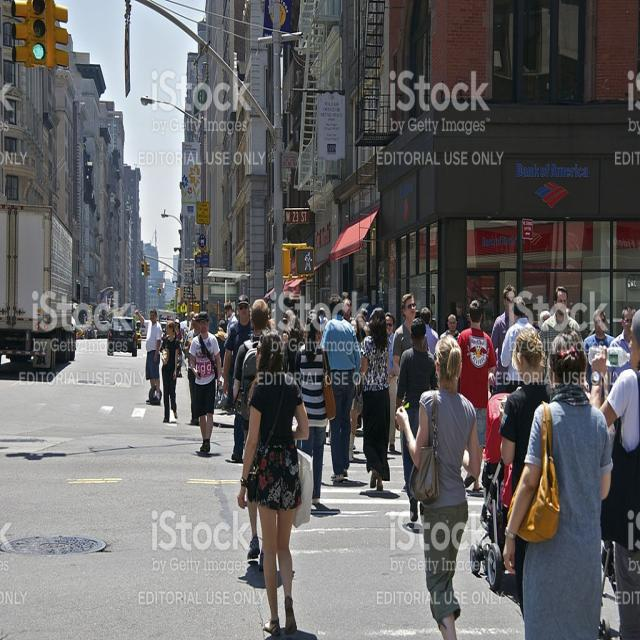body: (503, 329, 618, 640), (392, 328, 486, 639), (236, 329, 310, 636), (586, 306, 640, 639), (232, 297, 274, 575), (498, 326, 555, 506), (393, 316, 439, 527), (292, 310, 338, 512), (454, 297, 499, 493), (320, 292, 362, 488), (313, 477, 422, 536), (359, 307, 391, 493), (222, 294, 254, 464), (189, 309, 222, 457), (540, 285, 584, 386), (499, 294, 540, 394), (392, 292, 430, 380), (488, 284, 517, 396), (583, 308, 617, 402), (134, 308, 164, 407), (384, 310, 402, 454), (609, 307, 637, 394), (158, 320, 181, 423), (184, 312, 203, 428), (349, 317, 364, 462), (225, 562, 299, 589), (281, 314, 307, 376), (216, 302, 238, 358), (418, 306, 441, 358), (173, 318, 185, 378), (439, 312, 462, 343), (263, 628, 321, 640), (269, 308, 290, 340), (217, 311, 228, 369), (212, 415, 234, 435), (193, 449, 223, 460), (340, 297, 352, 323), (356, 310, 369, 332), (536, 305, 552, 321), (188, 311, 196, 332), (164, 310, 172, 322)
